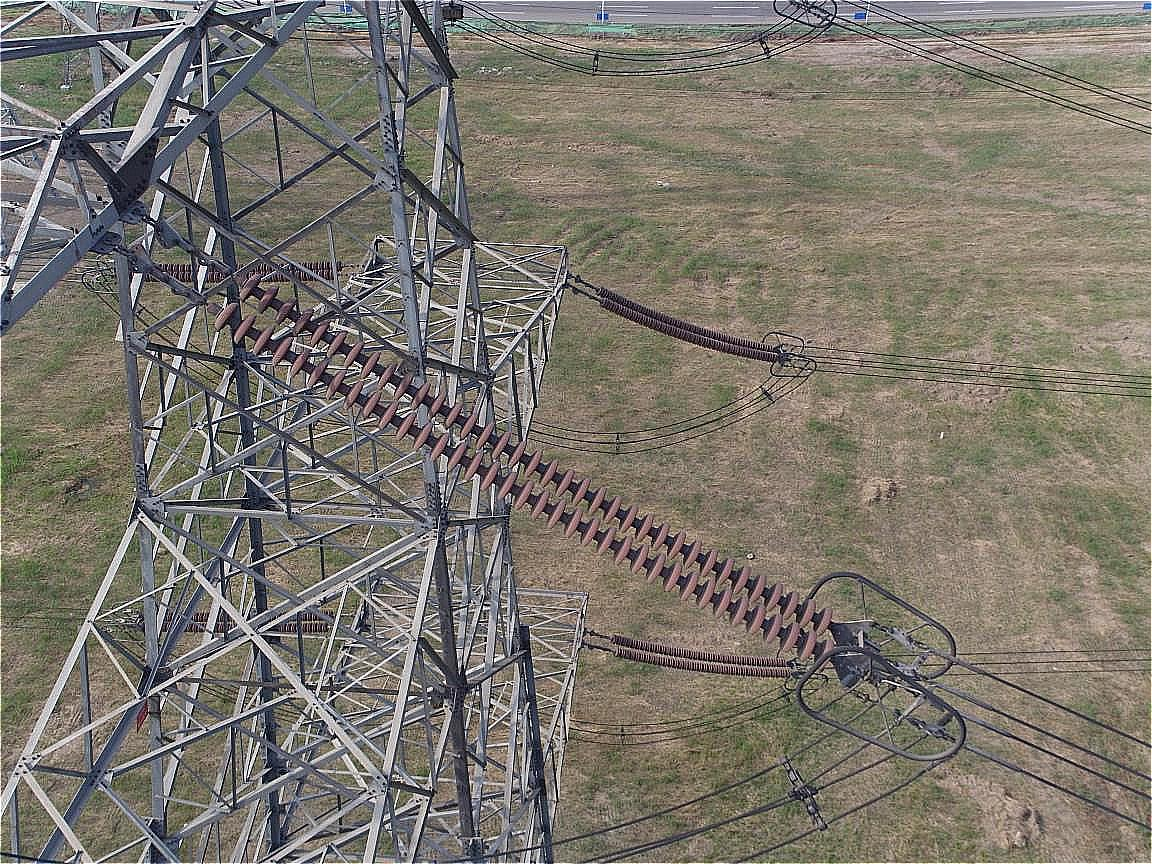insultor1: (198, 265, 840, 666)
insultor2: (592, 275, 794, 376), (606, 629, 799, 684)
